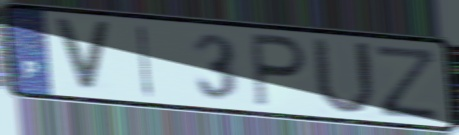3: (189, 31, 240, 102)
I: (135, 22, 156, 100)
P: (248, 30, 310, 112)
U: (309, 34, 380, 119)
V: (50, 15, 114, 96)
Z: (372, 41, 443, 123)
